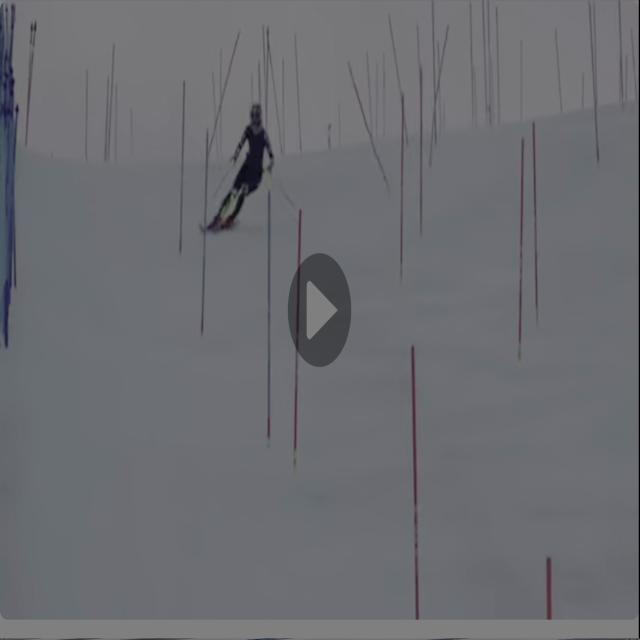gate: (406, 324, 428, 624), (258, 178, 274, 454), (515, 134, 530, 382), (410, 68, 428, 244), (198, 123, 212, 332), (395, 92, 407, 280), (178, 92, 186, 260)
